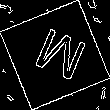M_SW: (24, 23, 86, 87)
